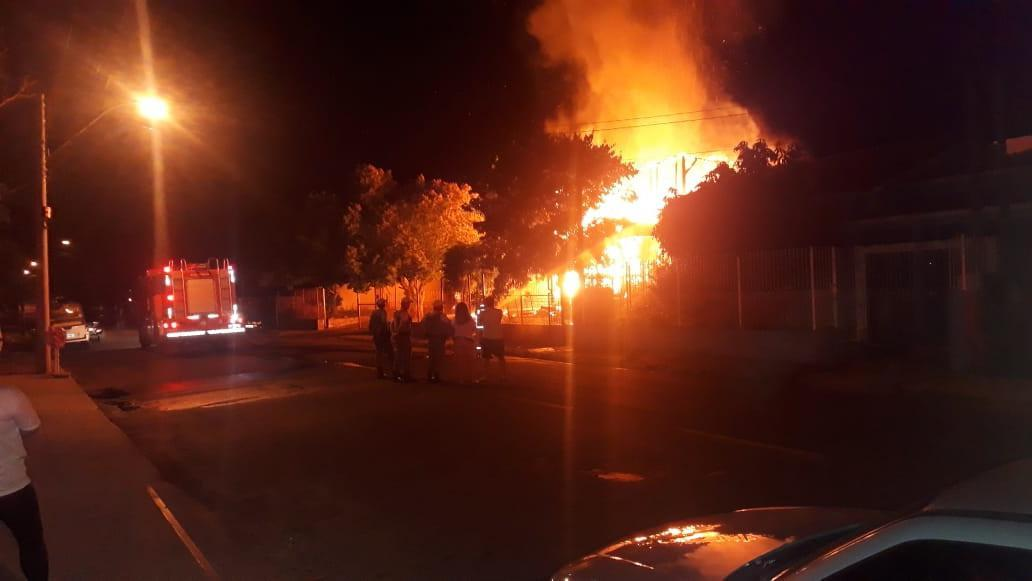Fire: (501, 5, 788, 322)
